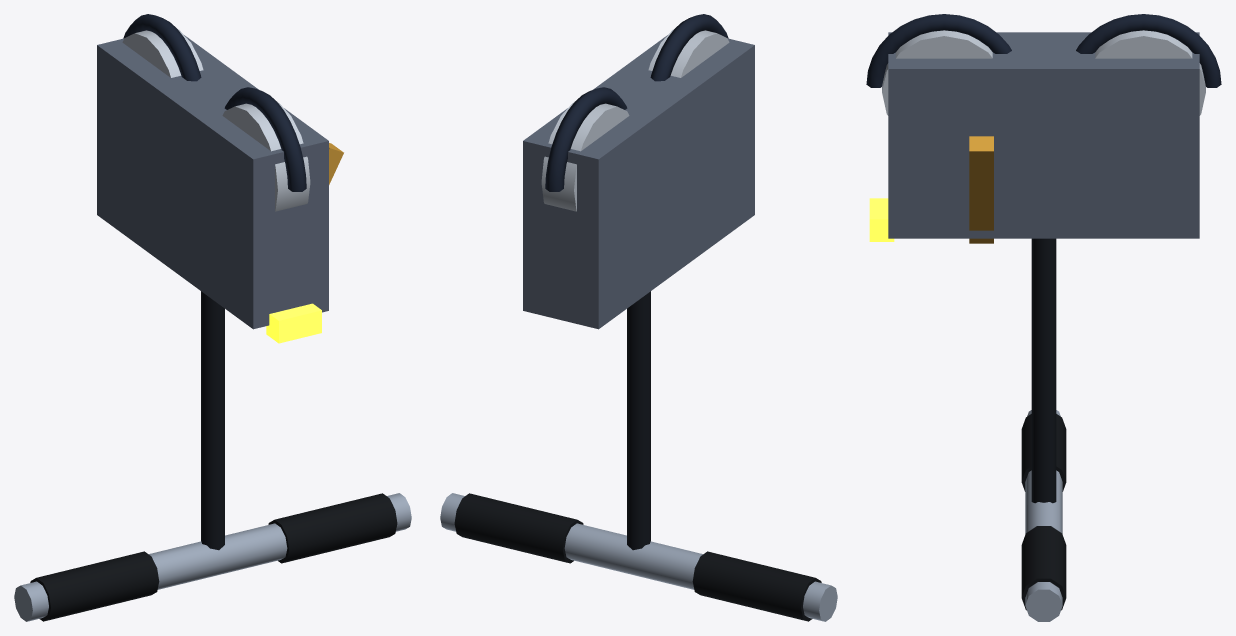
Rendered from shared_zipline_trolley.glb.
3 renders of one model, left to right at view 1: azimuth 30°, elevation 25°; view 2: azimuth 150°, elevation 25°; view 3: azimuth 270°, elevation 25°, orthographic.
Visible parts, largest first — view 1: trolley_frame, trolley_tbar, trolley_strap, trolley_grip1, trolley_grip-1, trolley_wheel0.16, trolley_wheel_guard0.16, trolley_wheel_guard-0.16, trolley_lamp, trolley_wheel-0.16; view 2: trolley_frame, trolley_tbar, trolley_strap, trolley_grip1, trolley_grip-1, trolley_wheel-0.16, trolley_wheel_guard-0.16, trolley_wheel_guard0.16, trolley_wheel0.16; view 3: trolley_frame, trolley_strap, trolley_wheel_guard-0.16, trolley_wheel_guard0.16, trolley_grip1, trolley_tbar, trolley_brake, trolley_wheel-0.16, trolley_wheel0.16, trolley_grip-1, trolley_lamp.
Boxes of the visible parts, <box> form: trolley_frame: <box>97,35,328,329</box>; trolley_tbar: <box>14,493,411,621</box>; trolley_strap: <box>201,291,224,550</box>; trolley_grip1: <box>268,493,397,563</box>; trolley_grip-1: <box>30,551,159,621</box>; trolley_wheel0.16: <box>222,102,310,211</box>; trolley_wheel_guard0.16: <box>224,87,306,191</box>; trolley_wheel_guard-0.16: <box>123,14,201,81</box>; trolley_lamp: <box>266,303,321,343</box>; trolley_wheel-0.16: <box>122,29,203,77</box>; trolley_frame: <box>523,35,754,329</box>; trolley_tbar: <box>440,493,837,621</box>; trolley_strap: <box>627,291,650,550</box>; trolley_grip1: <box>454,493,583,563</box>; trolley_grip-1: <box>692,551,821,621</box>; trolley_wheel-0.16: <box>541,102,629,211</box>; trolley_wheel_guard-0.16: <box>545,87,627,191</box>; trolley_wheel_guard0.16: <box>650,14,728,81</box>; trolley_wheel0.16: <box>648,29,729,77</box>; trolley_frame: <box>888,32,1199,238</box>; trolley_strap: <box>1031,238,1056,503</box>; trolley_wheel_guard-0.16: <box>1076,14,1221,87</box>; trolley_wheel_guard0.16: <box>866,14,1011,87</box>; trolley_grip1: <box>1021,526,1066,610</box>; trolley_tbar: <box>1025,410,1062,621</box>; trolley_brake: <box>969,136,993,243</box>; trolley_wheel-0.16: <box>1095,30,1205,115</box>; trolley_wheel0.16: <box>882,30,992,115</box>; trolley_grip-1: <box>1021,414,1066,491</box>; trolley_lamp: <box>869,198,894,241</box>.
Size of the model in its own units: 0.7 by 0.9192 by 0.57.
